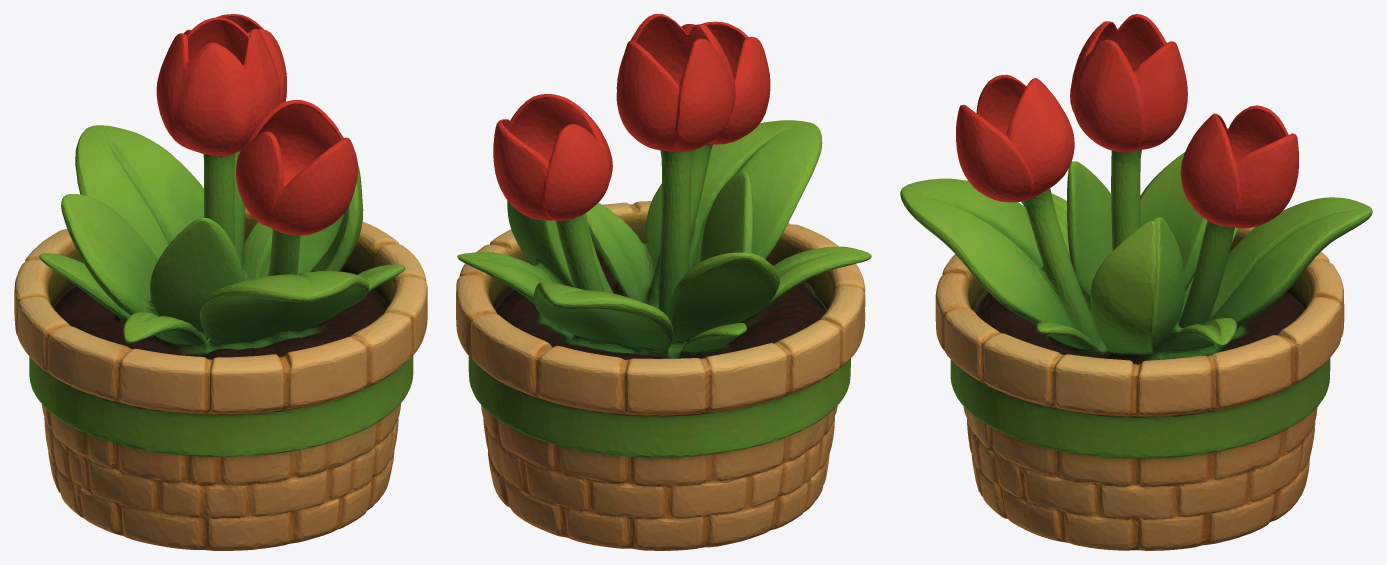
Rendered from flower_3.glb.
3 renders of one model, left to right at view 1: azimuth 30°, elevation 25°; view 2: azimuth 150°, elevation 25°; view 3: azimuth 270°, elevation 25°, orthographic.
Visible parts, largest first — view 1: tripo_node_9cd618a1-b70f-4dee-80ed-99b32b572757; view 2: tripo_node_9cd618a1-b70f-4dee-80ed-99b32b572757; view 3: tripo_node_9cd618a1-b70f-4dee-80ed-99b32b572757.
Boxes of the visible parts, <box> form: tripo_node_9cd618a1-b70f-4dee-80ed-99b32b572757: <box>14,14,427,550</box>; tripo_node_9cd618a1-b70f-4dee-80ed-99b32b572757: <box>456,14,871,550</box>; tripo_node_9cd618a1-b70f-4dee-80ed-99b32b572757: <box>900,14,1372,550</box>.
Bounding box in the file's own units: 0.8153 × 0.9991 × 0.9437.
Materials: 1 (1 with a texture image).
